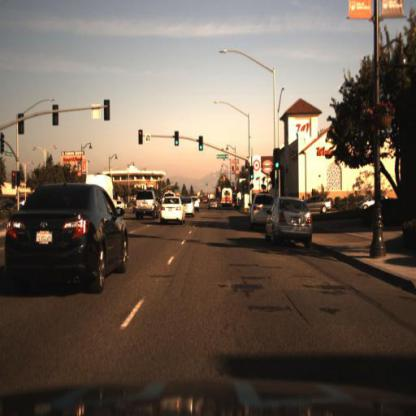car: (6, 175, 130, 317), (268, 199, 317, 244), (248, 194, 275, 236), (135, 186, 164, 225), (357, 186, 394, 215), (159, 197, 187, 223), (356, 193, 390, 213), (207, 196, 221, 213), (182, 197, 196, 213), (196, 195, 202, 216)
trafficLight-Green: (276, 150, 285, 171), (273, 149, 281, 171), (249, 164, 256, 186), (175, 129, 181, 149), (200, 137, 206, 153), (250, 166, 255, 181)
trafficLight-RedLeft: (136, 128, 143, 150)
truck: (222, 187, 233, 207)
